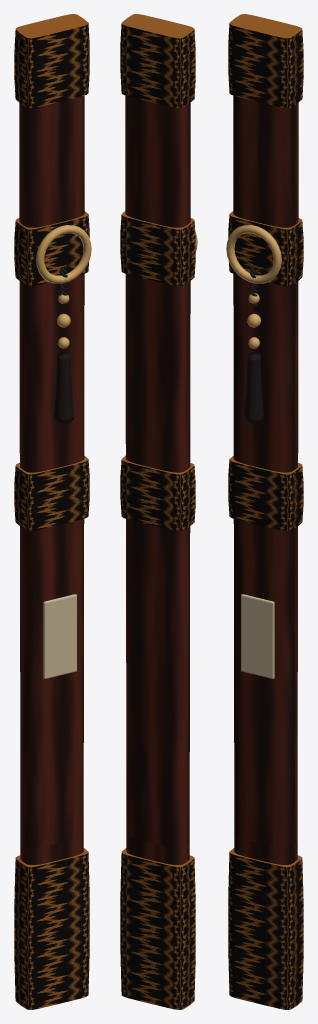
The model's file is sheath.glb.
3 views of the same model, side by side, from view 1: azimuth 30°, elevation 25°; view 2: azimuth 150°, elevation 25°; view 3: azimuth 330°, elevation 25° (orthographic).
Visible parts, largest first — view 1: sheath_body, sheath_chape, sheath_band, sheath_throat, sheath_tag, sheath_ring, sheath_tassel, sheath_beads; view 2: sheath_body, sheath_chape, sheath_band, sheath_throat; view 3: sheath_body, sheath_chape, sheath_band, sheath_throat, sheath_tag, sheath_ring, sheath_tassel, sheath_beads.
Part boxes in pixels (x1,y1,x2,y2): sheath_body: (19, 95, 84, 864); sheath_chape: (14, 848, 89, 1009); sheath_band: (14, 211, 89, 531); sheath_throat: (14, 14, 89, 107); sheath_tag: (43, 594, 76, 678); sheath_ring: (36, 225, 91, 283); sheath_tassel: (53, 352, 73, 422); sheath_beads: (57, 294, 70, 348); sheath_body: (125, 95, 190, 864); sheath_chape: (120, 848, 195, 1009); sheath_band: (120, 211, 195, 531); sheath_throat: (120, 14, 195, 107); sheath_body: (233, 95, 298, 864); sheath_chape: (228, 848, 303, 1009); sheath_band: (228, 211, 303, 531); sheath_throat: (228, 14, 303, 107); sheath_tag: (241, 594, 274, 678); sheath_ring: (226, 225, 281, 283); sheath_tassel: (244, 352, 264, 422); sheath_beads: (247, 293, 260, 348).
Bounding box in the file's own units: 0.0671 × 0.962 × 0.0452.
5 materials, 2 textured.
